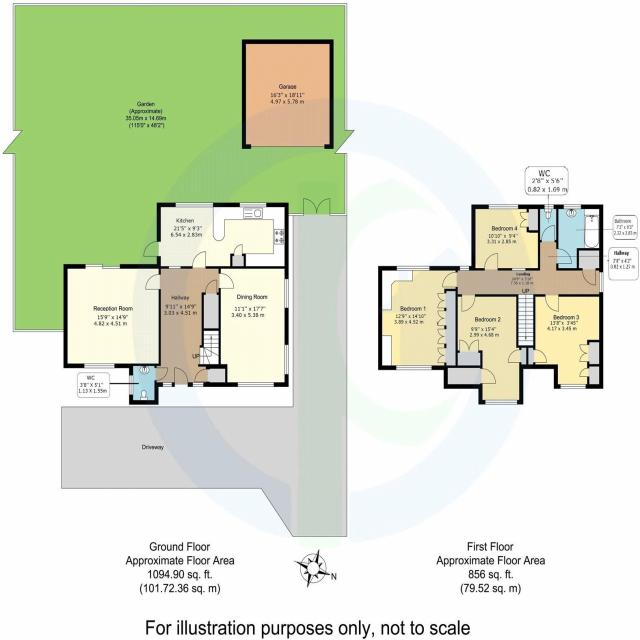DOOR: (480, 367, 498, 385), (143, 240, 161, 257), (174, 367, 189, 387), (541, 224, 556, 243), (442, 271, 458, 288), (218, 272, 234, 289), (145, 273, 161, 290), (461, 294, 476, 312), (484, 253, 499, 271), (556, 248, 572, 264), (545, 294, 559, 312), (192, 251, 206, 269), (154, 367, 168, 381)
ROOM: (63, 264, 161, 369), (142, 202, 289, 269), (443, 294, 529, 405), (218, 266, 289, 387), (378, 266, 459, 370), (526, 294, 604, 389), (471, 204, 540, 271)
WINDOW: (175, 202, 214, 208), (396, 265, 430, 271), (485, 399, 518, 405), (83, 363, 115, 369), (488, 204, 519, 210), (237, 382, 274, 387), (396, 365, 432, 370), (239, 202, 267, 208), (284, 278, 289, 309), (284, 344, 289, 375), (560, 384, 586, 389), (599, 271, 604, 293), (563, 204, 581, 209), (129, 375, 133, 395), (459, 265, 470, 271), (192, 382, 204, 387), (544, 204, 554, 209), (162, 382, 172, 387)
